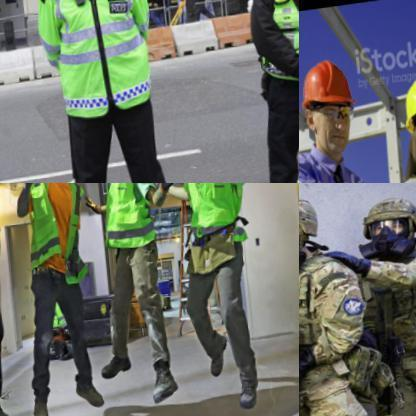vest: (39, 0, 167, 125), (299, 257, 362, 381), (19, 183, 90, 292), (360, 249, 415, 345), (97, 183, 159, 258), (177, 183, 244, 249), (261, 0, 298, 93)
